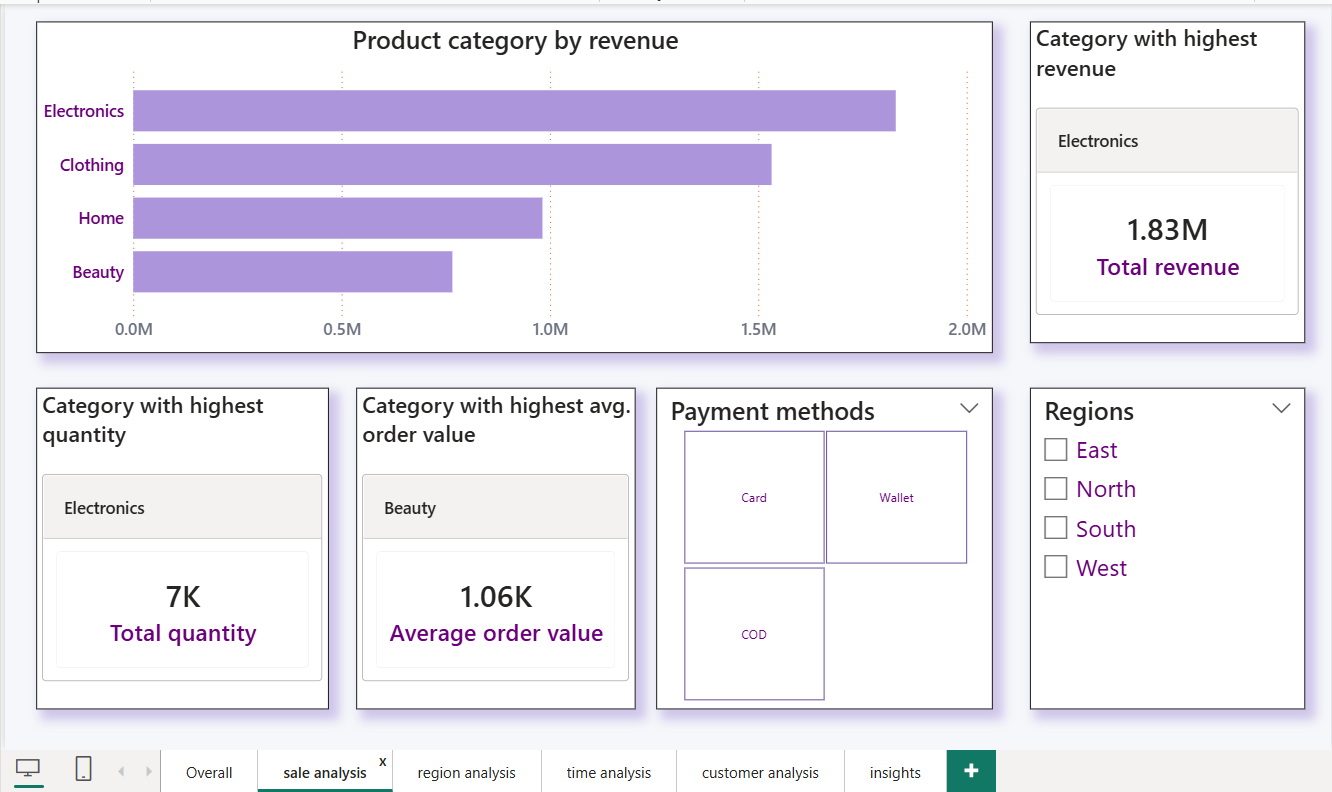

The dashboard page shown, as its layout file describes it:
{"tool":"powerbi","page":{"name":"sale analysis","canvas":[1280,720],"ordinal":1},"visuals":[{"type":"barChart","title":"Product category by revenue","fields":{"Category":["ecommerce.product_category"],"Y":["Sum(ecommerce.revenue)"]},"box":[30.3,17.3,923.4,320.3],"z":0},{"type":"cardVisual","title":"Category with highest revenue","fields":{"Data":["Sum(ecommerce.revenue)"],"Rows":["ecommerce.product_category"]},"box":[989.7,17.3,265.5,310.2],"z":1000},{"type":"cardVisual","title":"Category with highest quantity","fields":{"Rows":["ecommerce.product_category"],"Data":["Sum(ecommerce.quantity)"]},"box":[30.3,370.8,282.8,310.2],"z":2000},{"type":"cardVisual","title":"Category with highest avg. order value","fields":{"Data":["Avg(ecommerce.revenue)"],"Rows":["ecommerce.product_category"]},"box":[339,370.8,269.8,310.2],"z":3000},{"type":"slicer","fields":{"Values":["ecommerce.region"]},"box":[989.7,370.8,265.5,310.2],"z":4000},{"type":"slicer","fields":{"Values":["ecommerce.payment_method"]},"box":[629,370.8,324.6,310.2],"z":5000}]}

Visuals, with their boxes in screenshot pixels (x1, y1, x2, y2):
"Product category by revenue" barChart: [x1=42, y1=21, x2=989, y2=350]
"Category with highest revenue" cardVisual: [x1=1026, y1=21, x2=1299, y2=340]
"Category with highest quantity" cardVisual: [x1=42, y1=384, x2=332, y2=702]
"Category with highest avg. order value" cardVisual: [x1=358, y1=384, x2=635, y2=702]
slicer - ecommerce.region: [x1=1026, y1=384, x2=1299, y2=702]
slicer - ecommerce.payment_method: [x1=656, y1=384, x2=989, y2=702]
